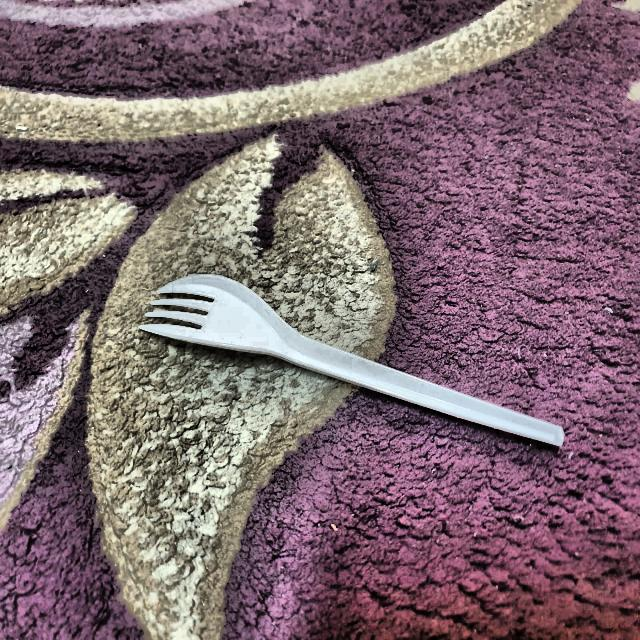plastic utensil: (142, 260, 576, 470)
